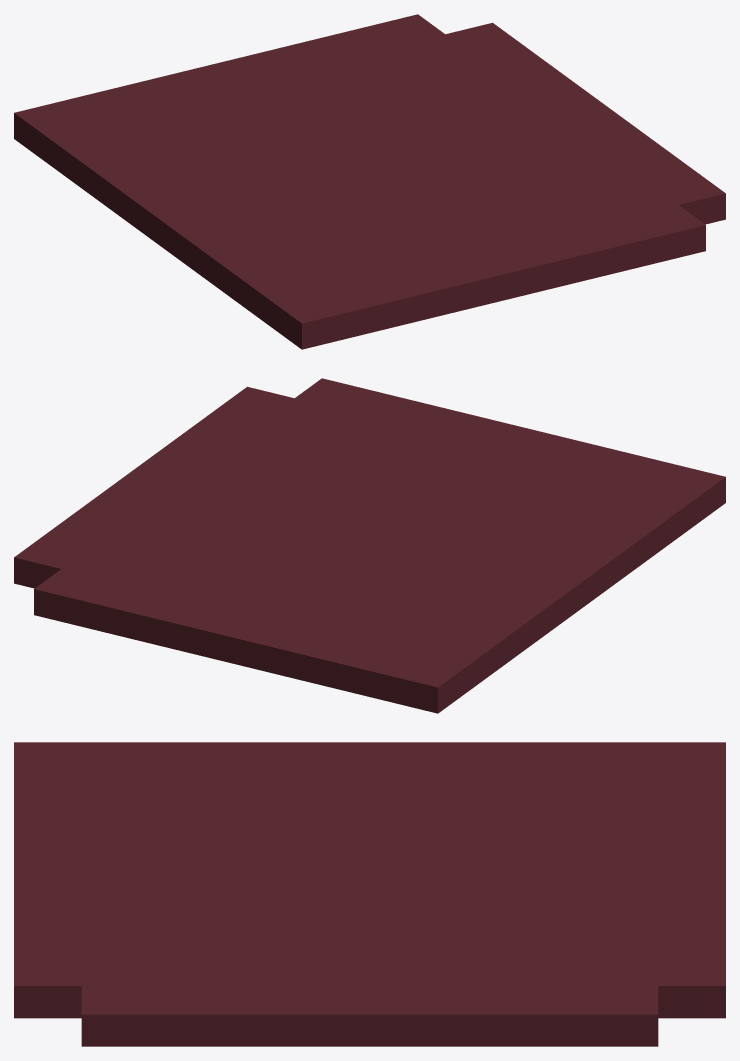
Rendered from Threeway.fbx.
3 views of the same model, one above another, from view 1: azimuth 30°, elevation 25°; view 2: azimuth 150°, elevation 25°; view 3: azimuth 270°, elevation 25° (orthographic). The views are drawn at different scales.
Visible parts, largest first — view 1: Threeway; view 2: Threeway; view 3: Threeway.
Boxes of the visible parts, box(x1,y1,x2,y2) form: Threeway: box(14, 14, 725, 349); Threeway: box(14, 378, 725, 713); Threeway: box(14, 742, 725, 1046).
Bounding box in the file's own units: 90.5 × 5 × 100.
